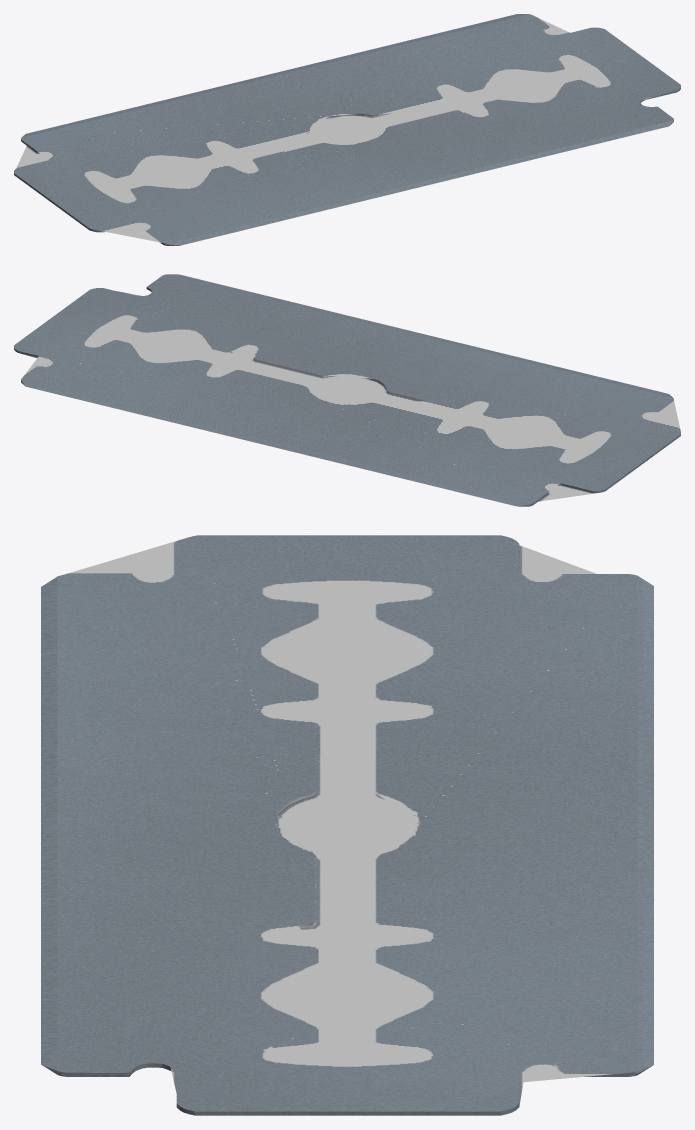
Rendered from Blade.fbx.
3 views of the same model, one above another, from view 1: azimuth 30°, elevation 25°; view 2: azimuth 150°, elevation 25°; view 3: azimuth 270°, elevation 25° (orthographic). The views are drawn at different scales.
Visible parts, largest first — view 1: Blade1; view 2: Blade1; view 3: Blade1.
Boxes of the visible parts, box(x1,y1,x2,y2) form: Blade1: box(14, 14, 680, 245); Blade1: box(14, 274, 680, 506); Blade1: box(41, 535, 653, 1115).
Bounding box in the file's own units: 1242 × 4.13 × 558.
